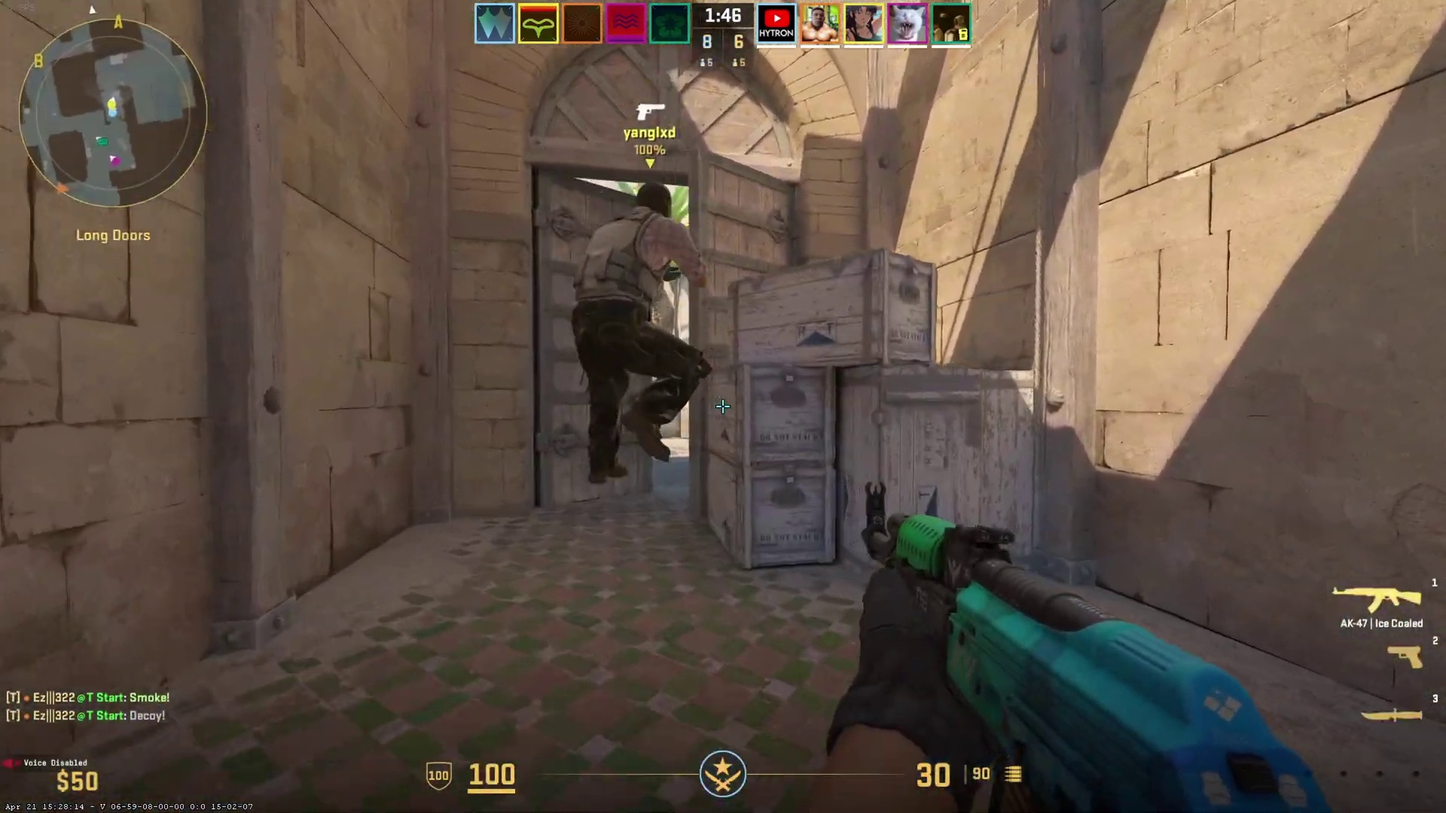Terrorist: (579, 183, 709, 484)
